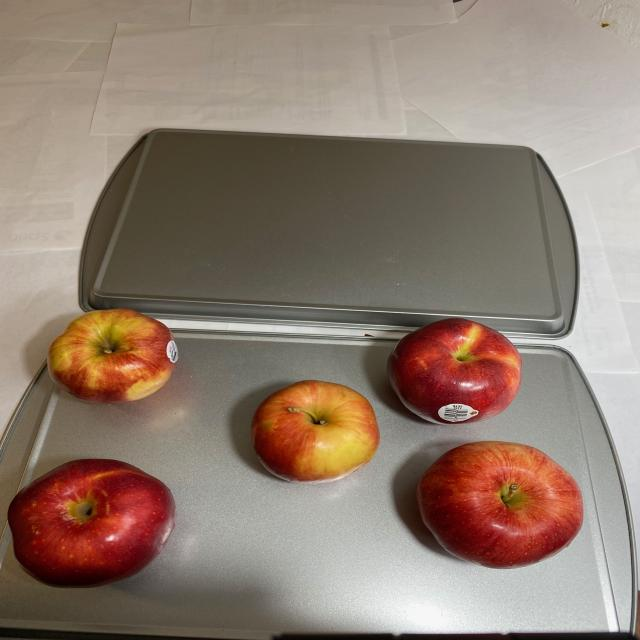apple: (244, 316, 584, 580), (1, 454, 180, 594), (45, 308, 187, 405)
